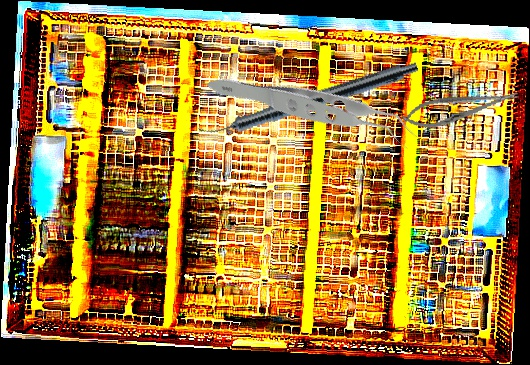Handpiece: (197, 54, 420, 146)
Needle Holder: (399, 81, 522, 135)
Tissue Forceps: (205, 4, 423, 220)
